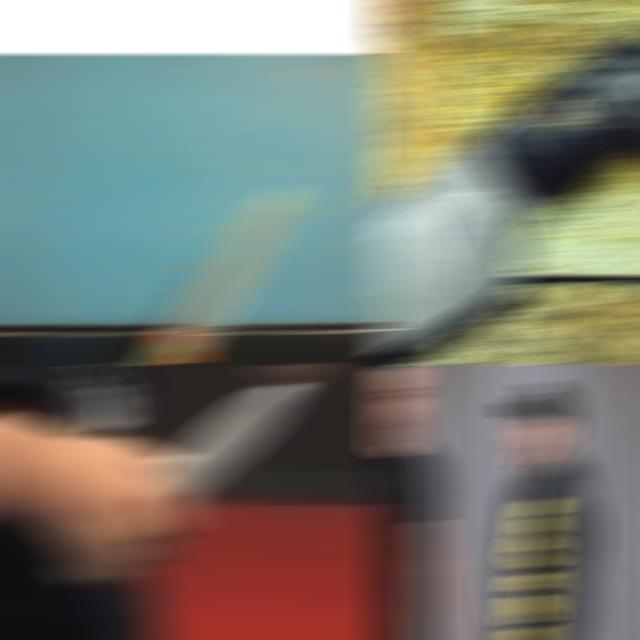Knife: (138, 188, 298, 364), (150, 383, 302, 505)
Knife_Handle: (70, 375, 316, 577)
